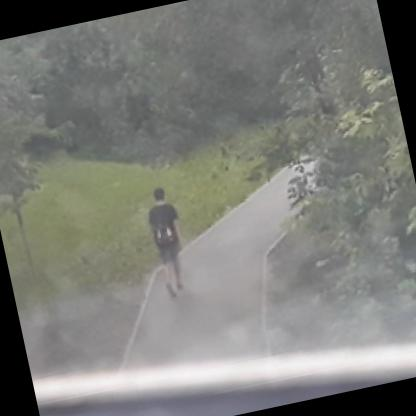Human Body: (129, 176, 200, 297)
